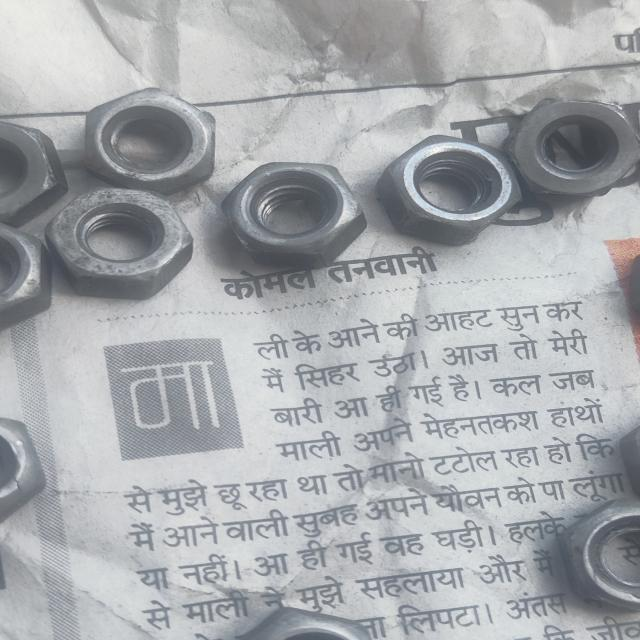disinfected nut: (47, 188, 193, 300), (377, 135, 520, 245), (223, 162, 367, 268), (83, 88, 213, 195), (507, 100, 640, 195), (560, 500, 640, 610), (0, 121, 67, 222), (0, 222, 50, 331), (0, 418, 47, 524)
